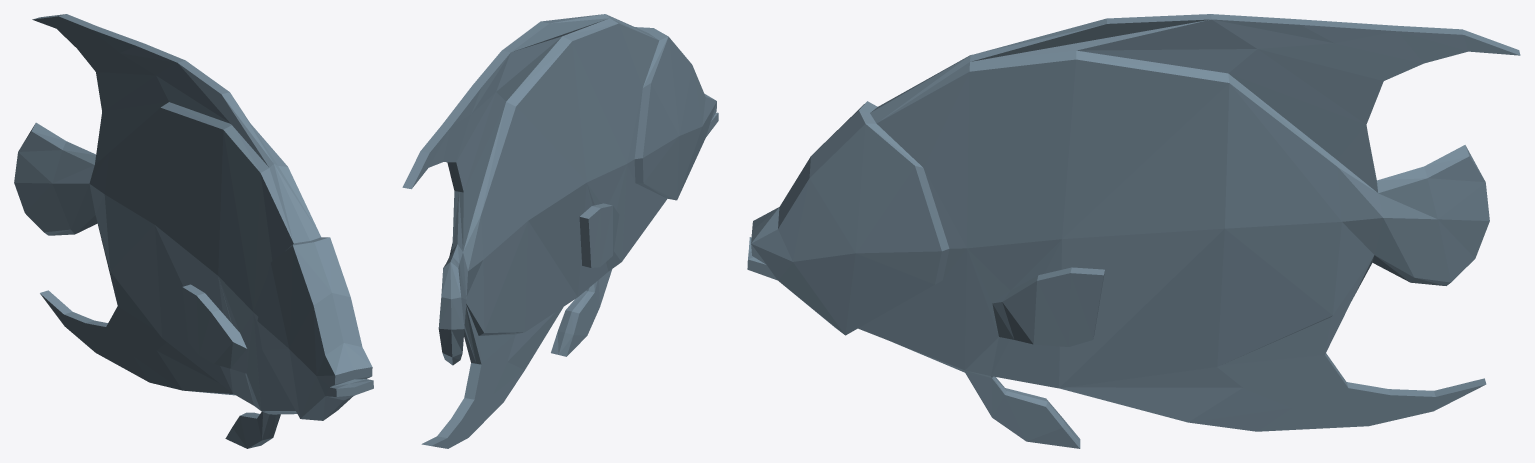
Rendered from fish2.glb.
3 renders of one model, left to right at view 1: azimuth 30°, elevation 25°; view 2: azimuth 150°, elevation 25°; view 3: azimuth 270°, elevation 25°, orthographic. The views are drawn at different scales.
Visible parts, largest first — view 1: Fish2.obj; view 2: Fish2.obj; view 3: Fish2.obj.
Boxes of the visible parts, x1=… form: Fish2.obj: x1=14, y1=14, x2=373, y2=448; Fish2.obj: x1=402, y1=14, x2=718, y2=448; Fish2.obj: x1=747, y1=14, x2=1520, y2=448.
Size of the model in its own units: 0.3847 by 1.22 by 2.
